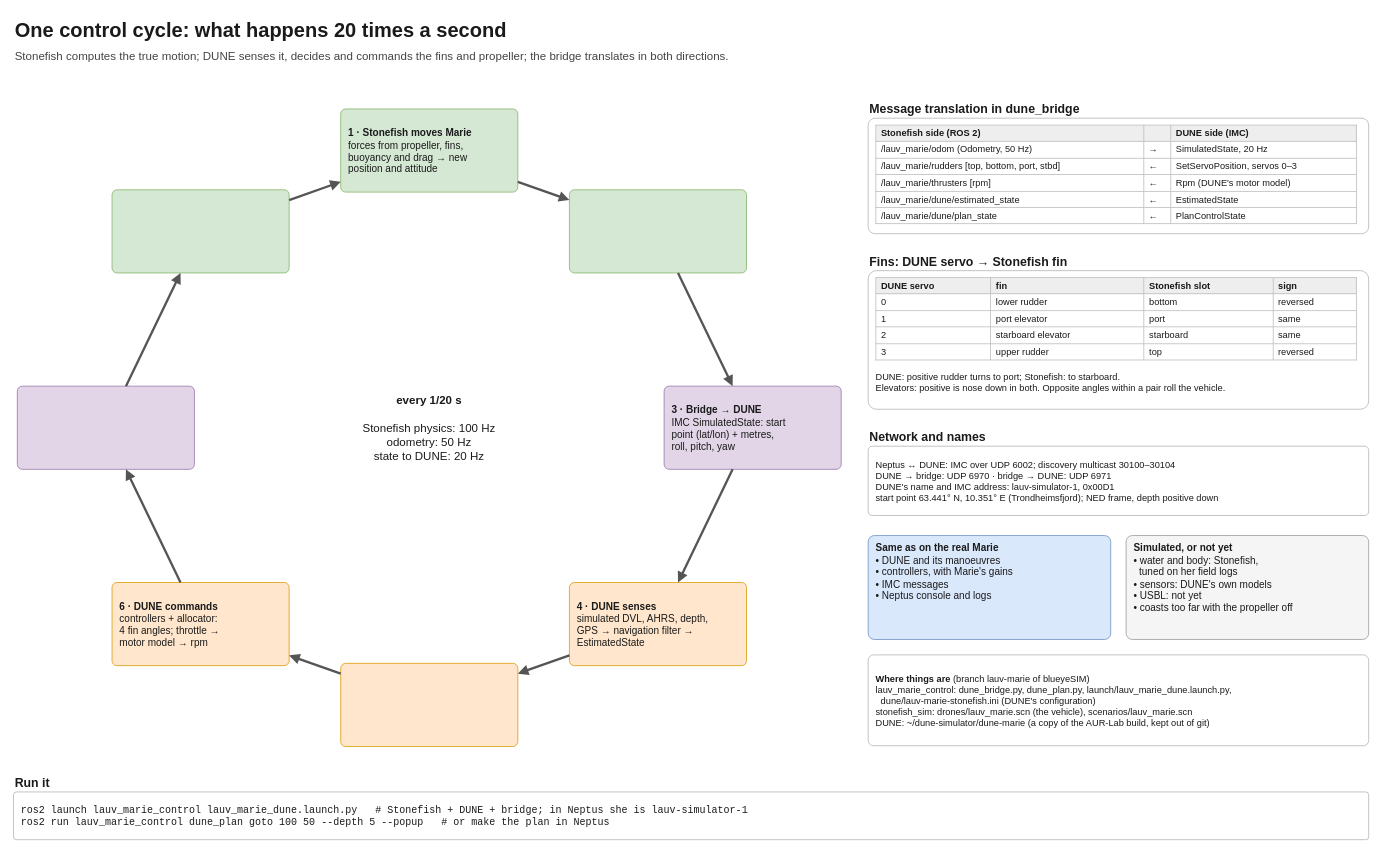
The diagram is 1382 pixels wide and 853 high, and some of its shapes have lost their labels. The centre of each missing label's shape, as x and y in pixels:
"2 · Odometry /lauv_marie/odom: NED position, attitude, body velocities" belongs at [658,231].
"5 · DUNE decides active manoeuvre + guidance: desired heading, depth, speed" belongs at [429,705].
"7 · Bridge → Stonefish fins → /lauv_marie/rudders rpm → /lauv_marie/thrusters" belongs at [105,427].
"8 · Fins and propeller act new fin angles and propeller speed in the physics → 1" belongs at [200,231].
